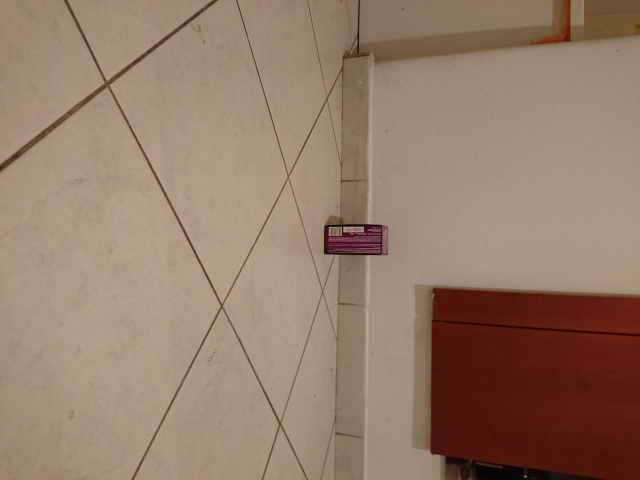Franck Black Currant Tea 60g: (321, 222, 391, 258)
